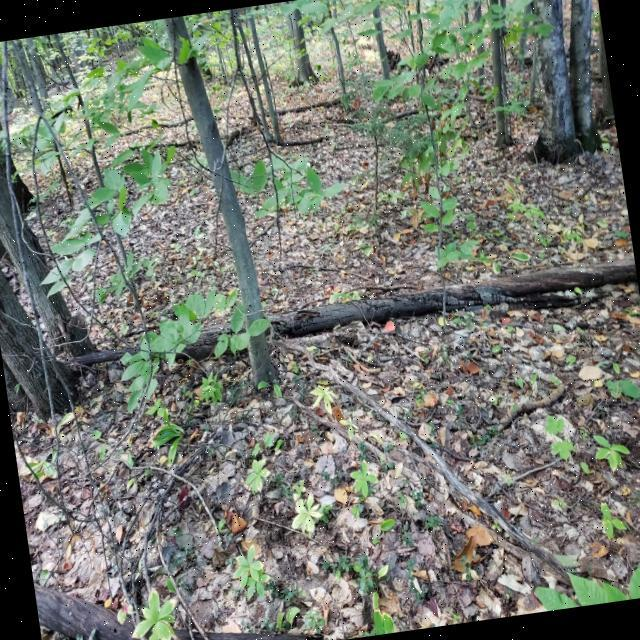fallen_object: (43, 217, 640, 424), (32, 528, 343, 640)
